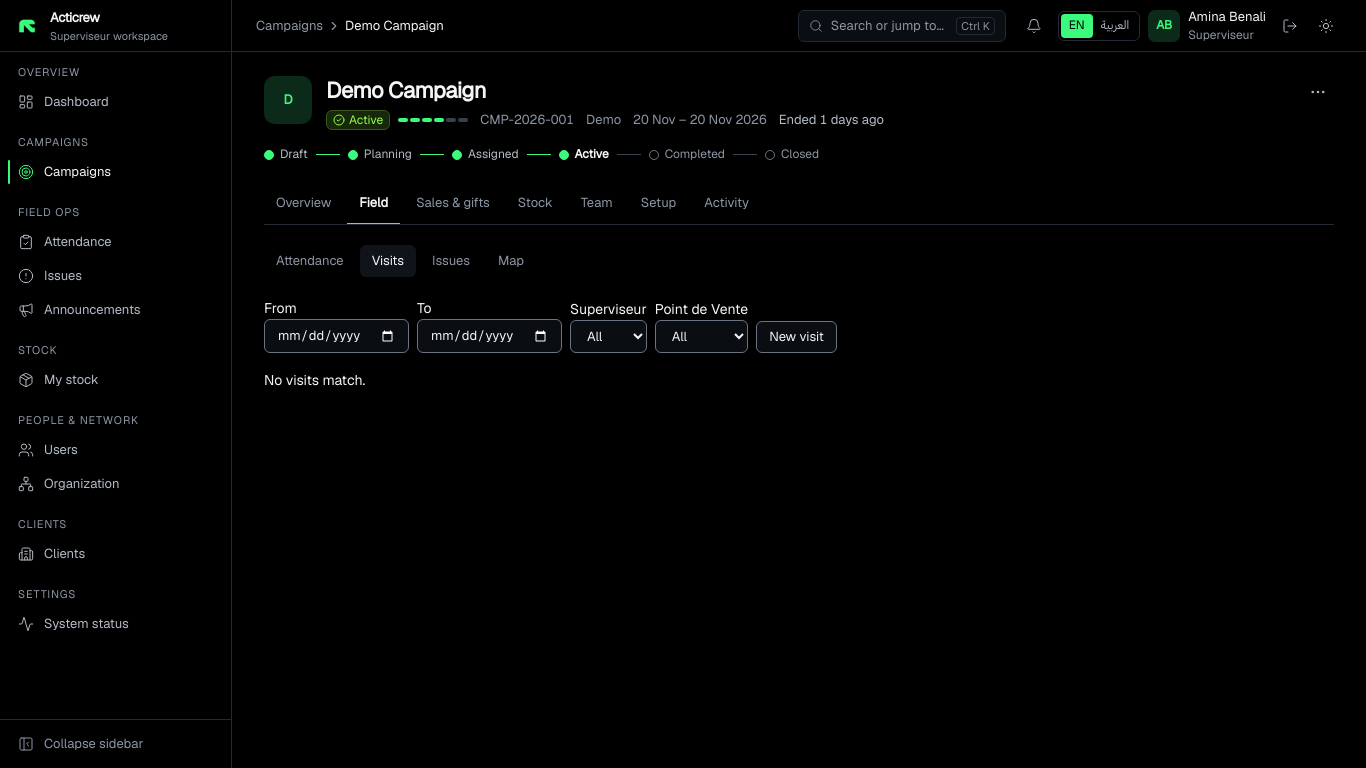
Test case: campaign attendance › offers only API-provided points of sale and their observed Animateurs
Click the button "New visit". click: {"x": 796, "y": 337}
box: [756,321,837,353]
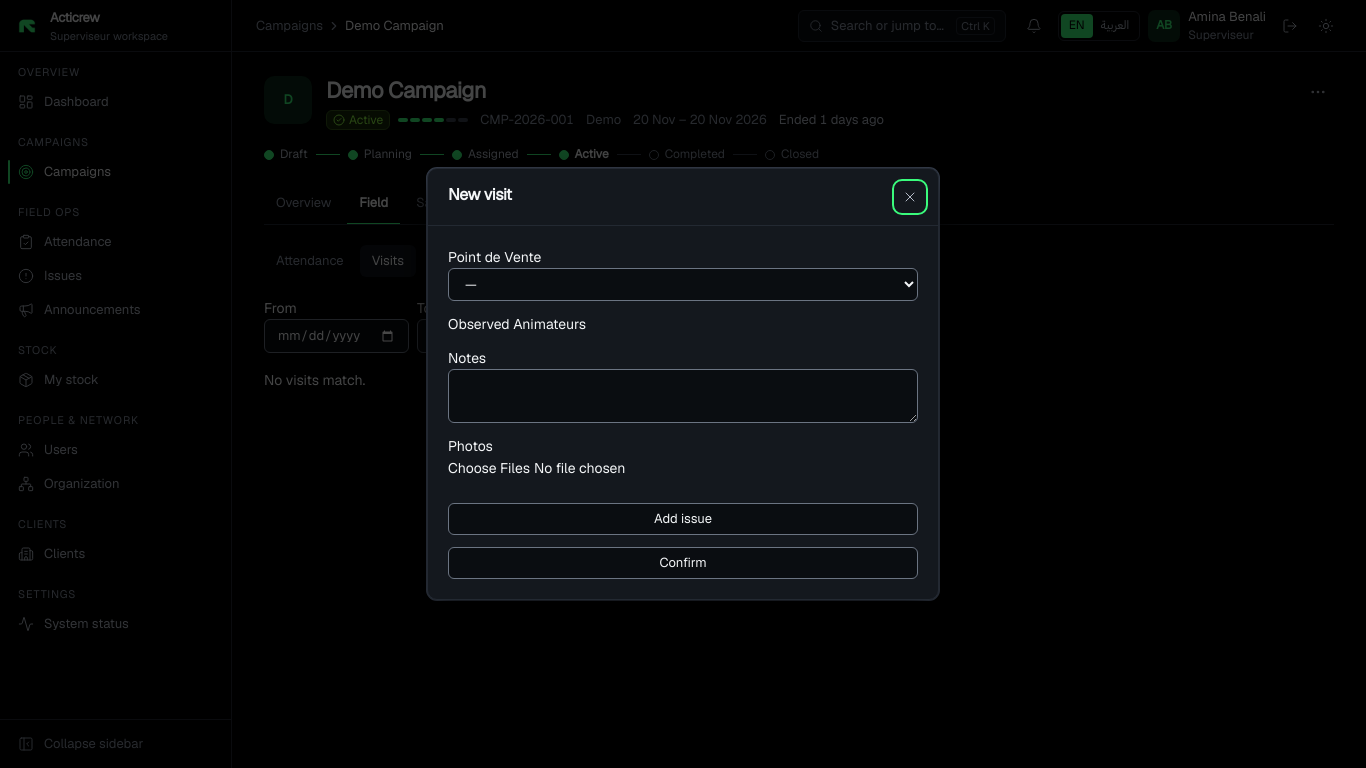
Select "Test store" in the dropdown labelled "Point de Vente". click: {"x": 683, "y": 284}
box: [448,268,918,301]
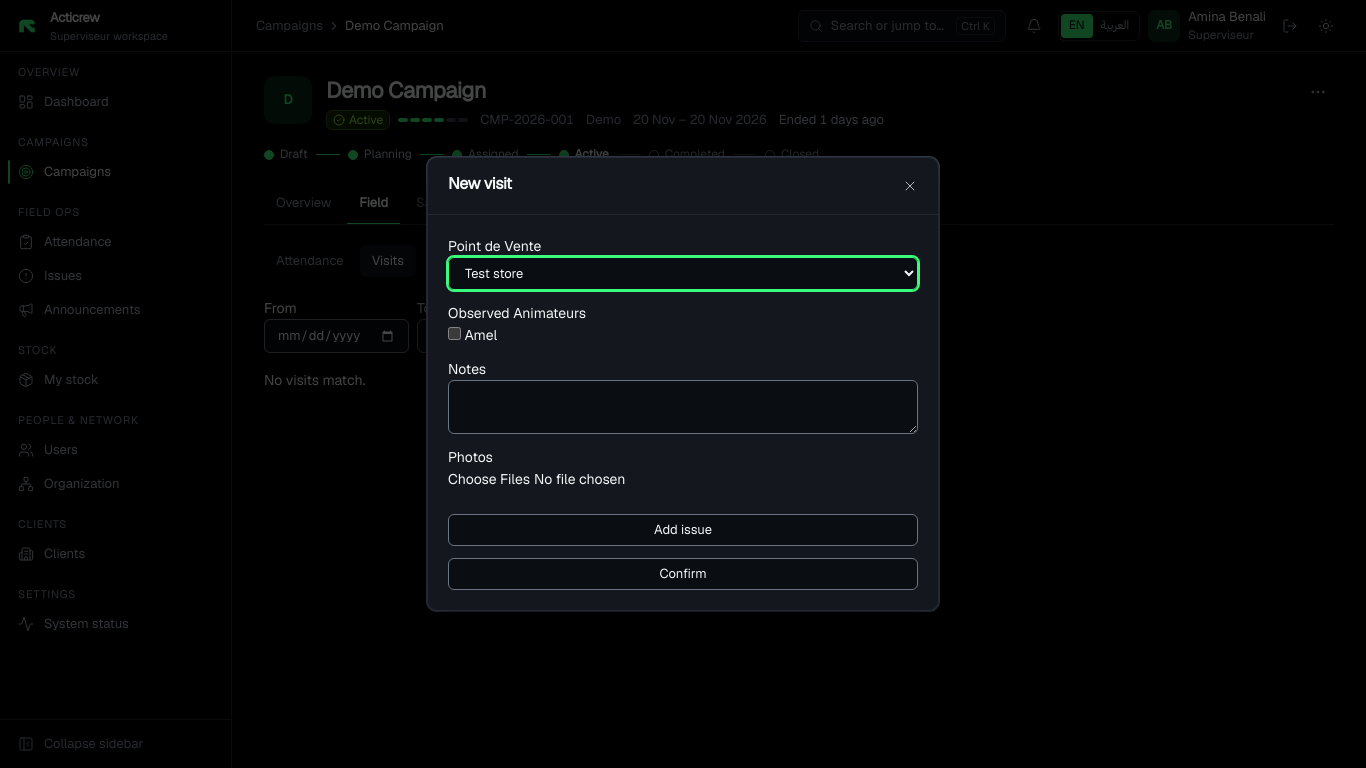
Expected: the checkbox labelled "Amel" is shown, [448,327,461,340]
Click the button "Add issue". click: {"x": 683, "y": 530}
box: [448,514,918,546]
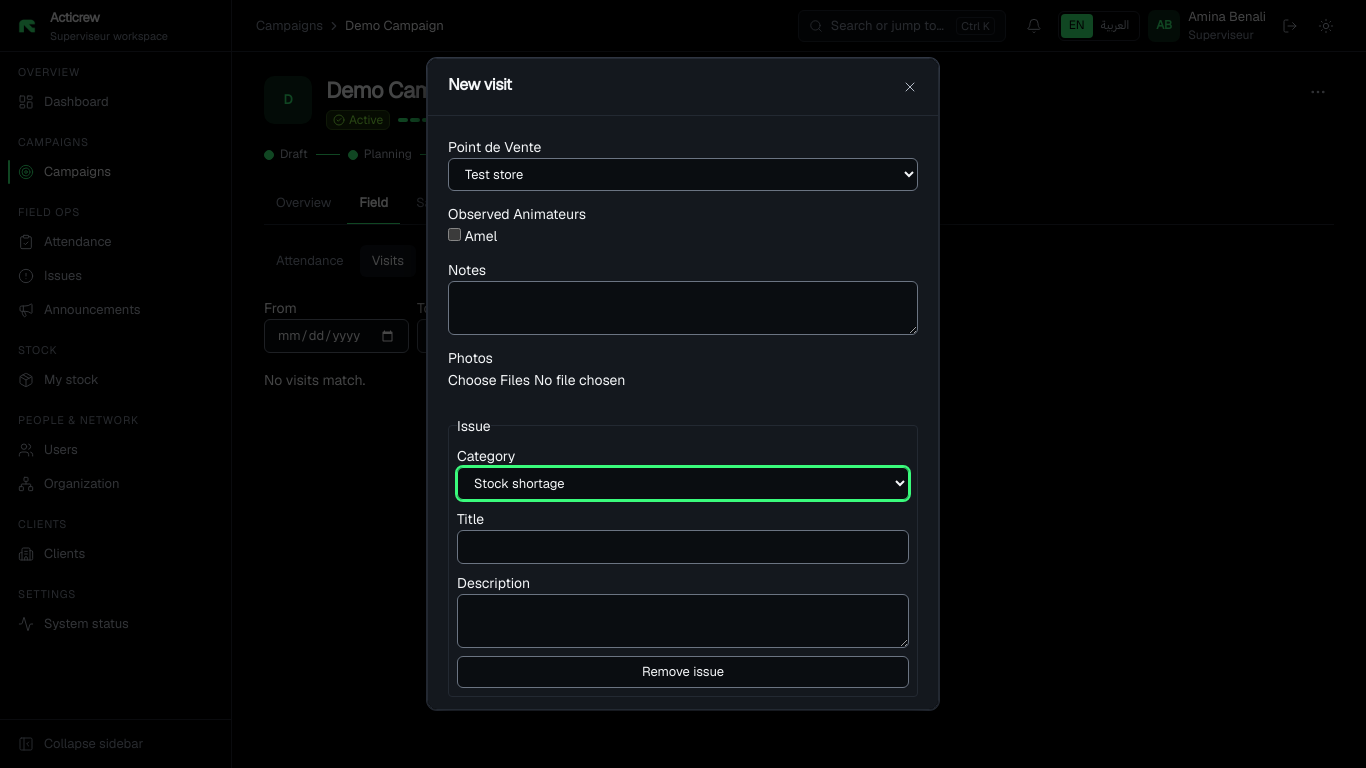
Expected: the dropdown labelled "Category" is shown, [457,467,909,500]
